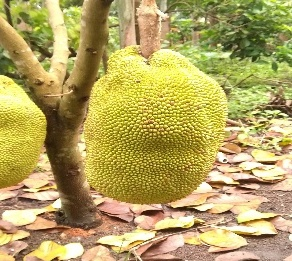Mit: (84, 47, 228, 203)
